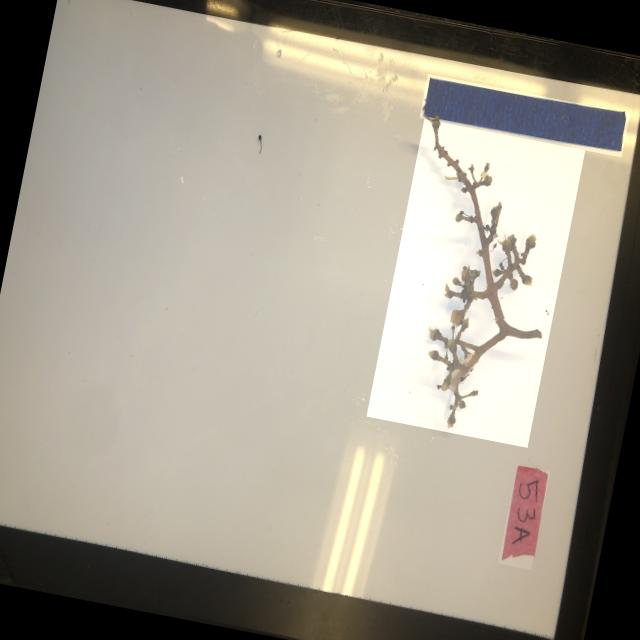index: (497, 466, 549, 570)
measure_label: (418, 74, 629, 157)
rachis_cluster: (366, 114, 586, 448)
